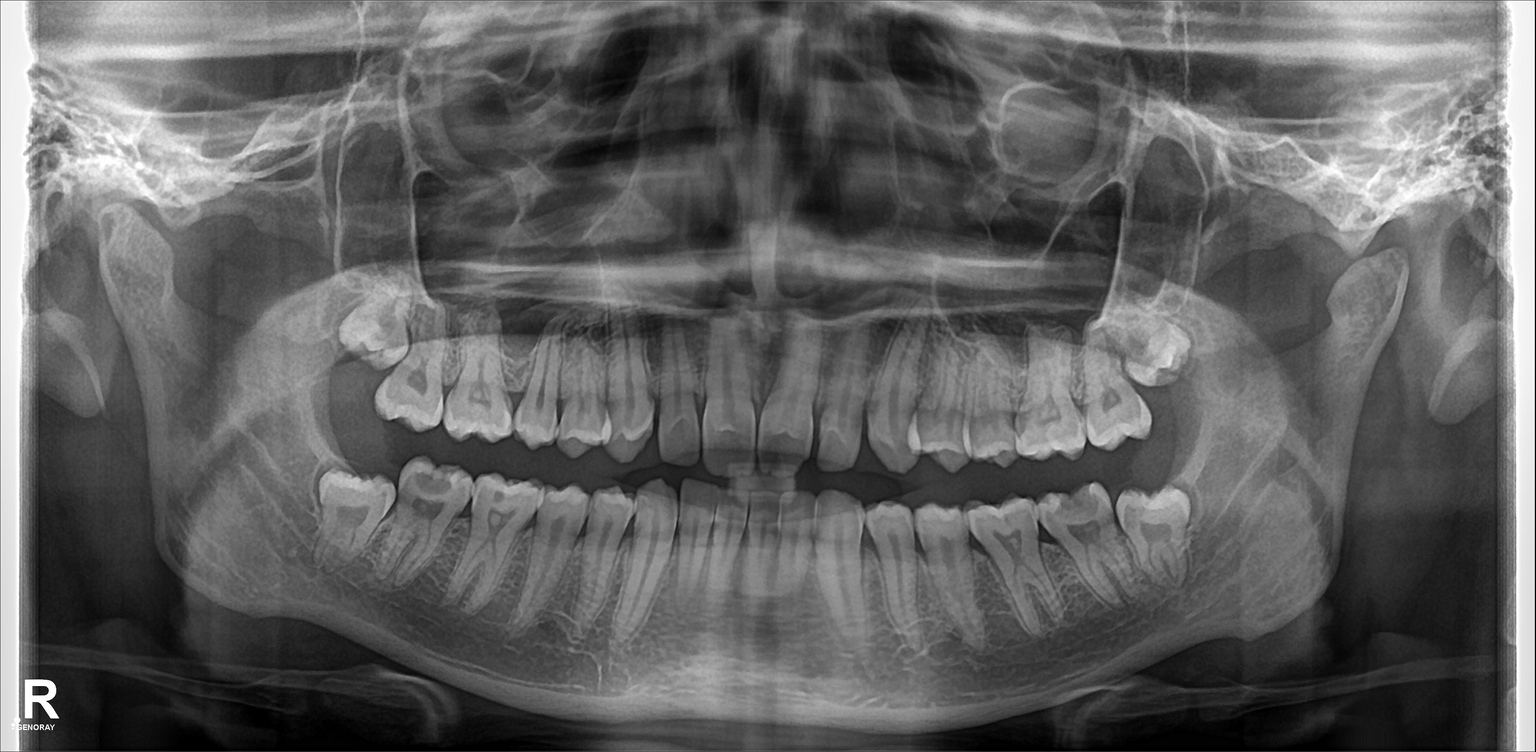Dental Caries: (404, 465, 453, 524)
Impacted Third Molar: (1110, 300, 1199, 375), (337, 292, 408, 365)
